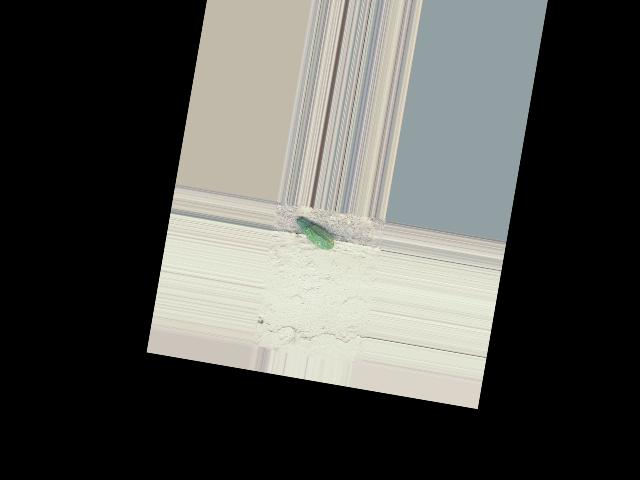cucumber: (293, 217, 337, 251)
